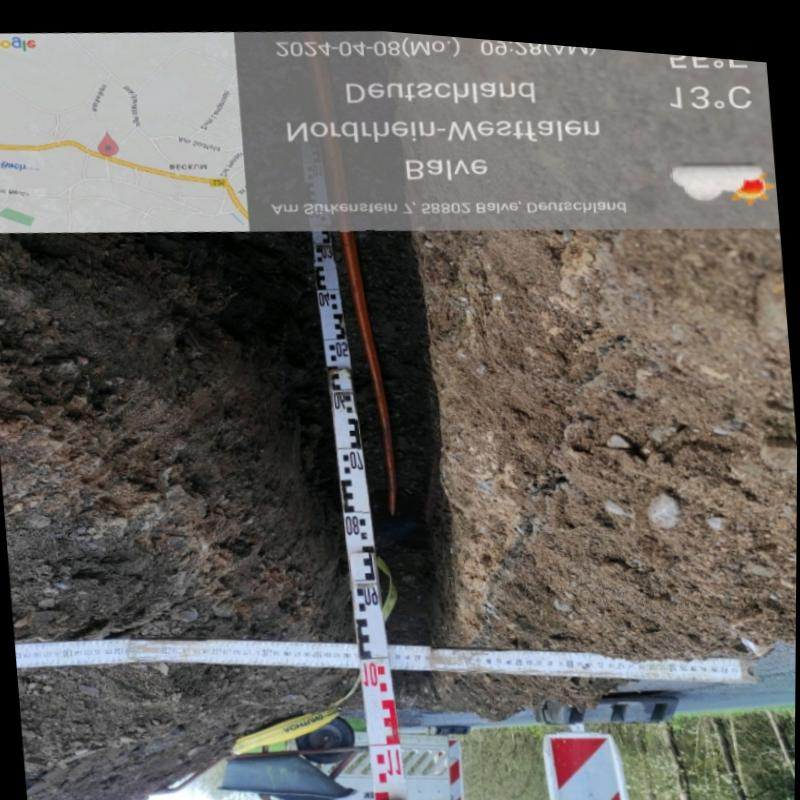Orang-Speednetrohrchen: (341, 224, 396, 507)
